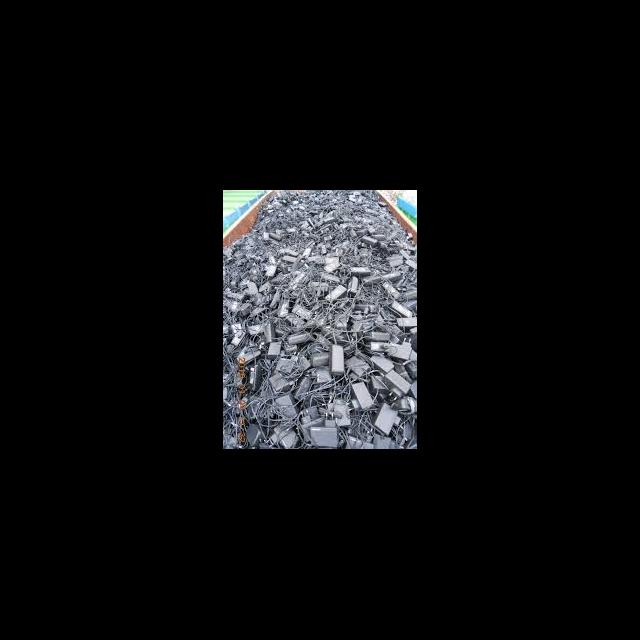metal: (300, 409, 350, 446), (378, 366, 414, 404), (370, 399, 401, 438), (344, 378, 376, 414), (320, 340, 348, 380), (379, 334, 413, 362), (269, 391, 299, 422), (366, 349, 396, 378), (238, 420, 268, 446), (320, 280, 352, 304), (243, 362, 265, 396), (283, 328, 318, 348), (237, 344, 266, 368), (226, 320, 249, 350), (261, 338, 286, 362), (254, 320, 279, 344), (265, 372, 293, 392), (386, 296, 413, 316), (277, 246, 304, 266), (344, 262, 372, 280), (257, 262, 284, 280), (361, 327, 391, 342), (391, 312, 416, 329), (357, 230, 379, 248)
